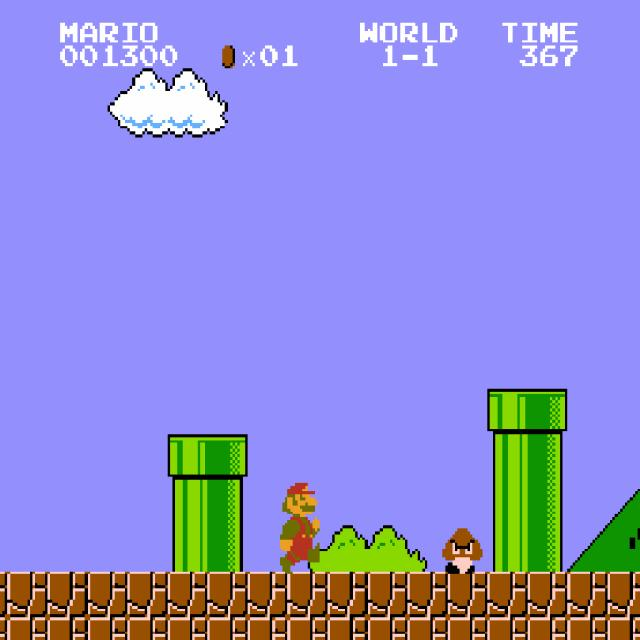big_mario: (277, 480, 320, 574)
goomba: (440, 526, 482, 574)
pipe: (167, 480, 208, 526), (207, 480, 248, 526), (487, 434, 528, 480), (487, 480, 528, 526), (527, 434, 568, 480), (527, 480, 568, 526), (167, 526, 208, 571), (207, 526, 248, 571), (487, 526, 528, 571), (527, 526, 568, 571)
pipe_head: (167, 434, 208, 480), (207, 434, 248, 480), (487, 389, 528, 434), (527, 389, 568, 434)
undestructible_block: (7, 572, 48, 617), (47, 572, 88, 617), (87, 572, 128, 617), (127, 572, 168, 617), (167, 572, 208, 617), (207, 572, 248, 617), (247, 572, 288, 617), (287, 572, 328, 617), (327, 572, 368, 617), (367, 572, 408, 617), (407, 572, 448, 617), (447, 572, 488, 617), (487, 572, 528, 617), (527, 572, 568, 617), (567, 572, 608, 617), (607, 571, 640, 617), (7, 617, 48, 640), (47, 617, 88, 640), (87, 617, 128, 640), (127, 617, 168, 640), (167, 617, 208, 640), (207, 617, 248, 640), (247, 617, 288, 640), (287, 617, 328, 640), (327, 617, 368, 640), (367, 617, 408, 640), (407, 617, 448, 640), (447, 617, 488, 640), (487, 617, 528, 640), (527, 617, 568, 640), (567, 617, 608, 640), (607, 617, 640, 639), (0, 572, 7, 617), (0, 617, 7, 640)
